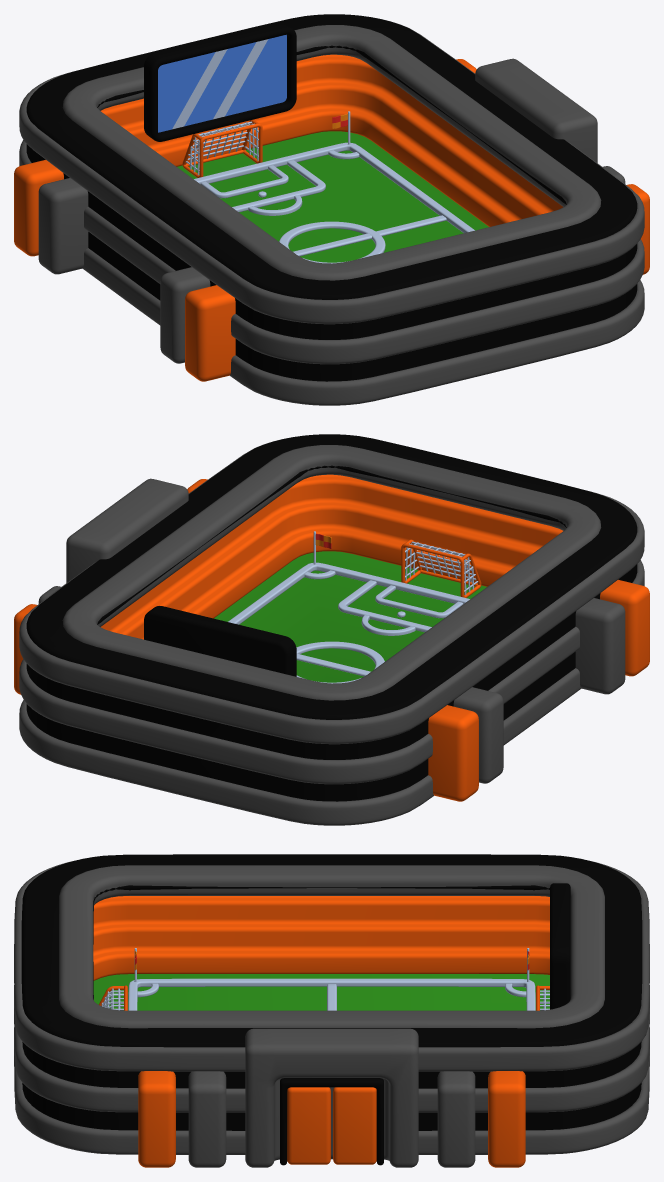
Rendered from glb.glb.
3 views of the same model, one above another, from view 1: azimuth 30°, elevation 25°; view 2: azimuth 150°, elevation 25°; view 3: azimuth 270°, elevation 25° (orthographic). The views are drawn at different scales.
Visible parts, largest first — view 1: Plane, Plane.008, Plane.015, Plane.007, Plane.001, Plane.017, Plane.012, Plane.011, Plane.010, Plane.009, Plane.005, Vert (+4 smaller); view 2: Plane, Plane.008, Plane.015, Plane.007, Plane.001, Plane.012, Plane.011, Plane.009, Plane.010, Vert, Plane.005, Plane.002 (+2 smaller); view 3: Plane, Plane.007, Plane.015, Plane.008, Plane.010, Plane.001, Plane.011, Plane.012, Plane.014, Plane.005, Plane.009, Plane.013 (+1 smaller).
Boxes of the visible parts, x1,y1,x2,y2 form: Plane: (26,14,637,381); Plane.008: (19,22,644,405); Plane.015: (62,25,601,280); Plane.007: (101,54,562,226); Plane.001: (177,131,488,262); Plane.017: (158,34,286,132); Plane.012: (14,59,649,381); Plane.011: (38,166,625,363); Plane.010: (475,58,597,162); Plane.009: (144,22,296,141); Plane.005: (194,142,474,233); Vert: (182,119,262,177); Plane: (26,434,637,801); Plane.008: (19,442,644,825); Plane.015: (62,445,601,700); Plane.007: (101,474,562,639); Plane.001: (214,551,486,682); Plane.012: (14,479,649,801); Plane.011: (38,586,625,783); Plane.009: (144,606,296,676); Plane.010: (66,478,188,582); Vert: (401,539,481,597); Plane.005: (228,562,469,624); Plane.002: (338,580,431,632); Plane: (21,854,642,1130); Plane.007: (93,896,549,980); Plane.015: (59,865,604,1028); Plane.008: (14,861,649,1154); Plane.010: (245,1028,418,1167); Plane.001: (93,974,549,1010); Plane.011: (188,1071,475,1167); Plane.012: (138,1071,525,1167); Plane.014: (287,1087,376,1164); Plane.005: (128,978,535,1010); Plane.009: (550,883,570,1009); Plane.013: (280,1078,383,1165).
Size of the model in its own units: 1.68 by 0.4996 by 2.
